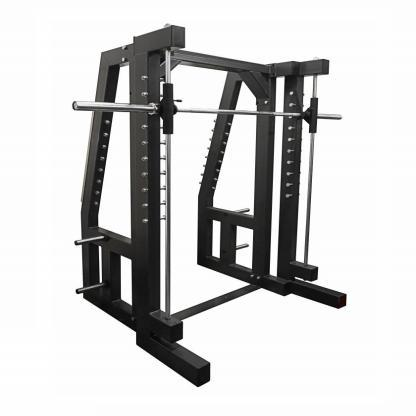smith machine: (68, 23, 347, 387)
